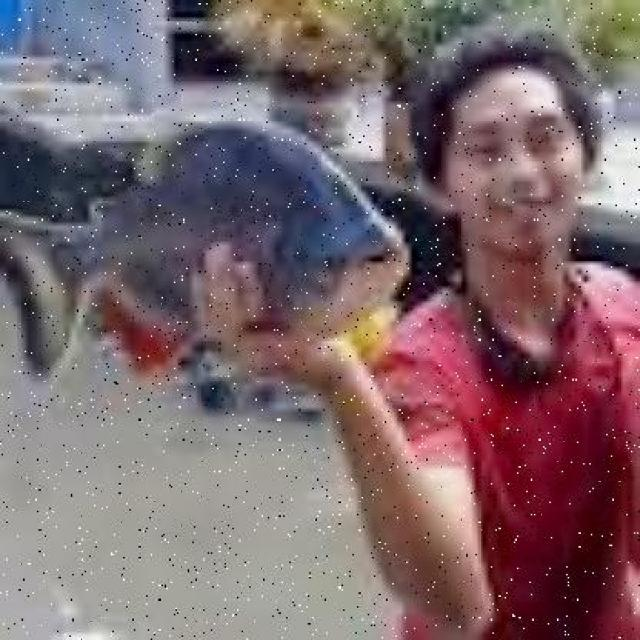ikan-pacu: (5, 121, 413, 386)
